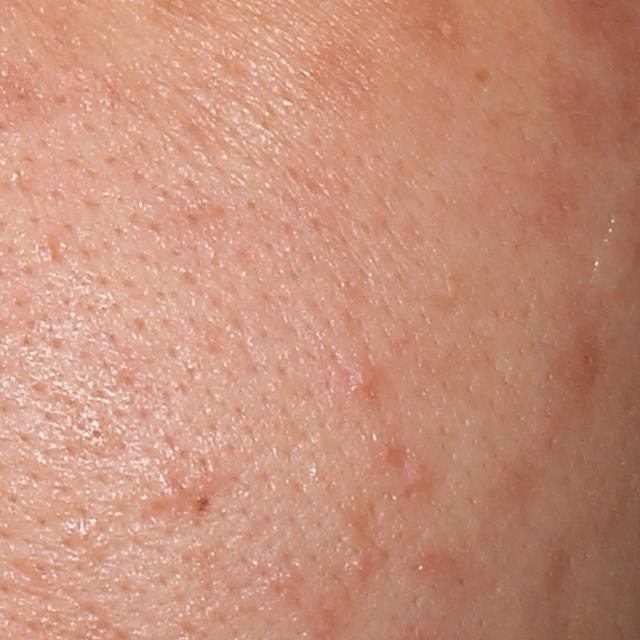atrophic_scar: (141, 472, 240, 545), (382, 441, 415, 469)
papule: (342, 360, 381, 397)
